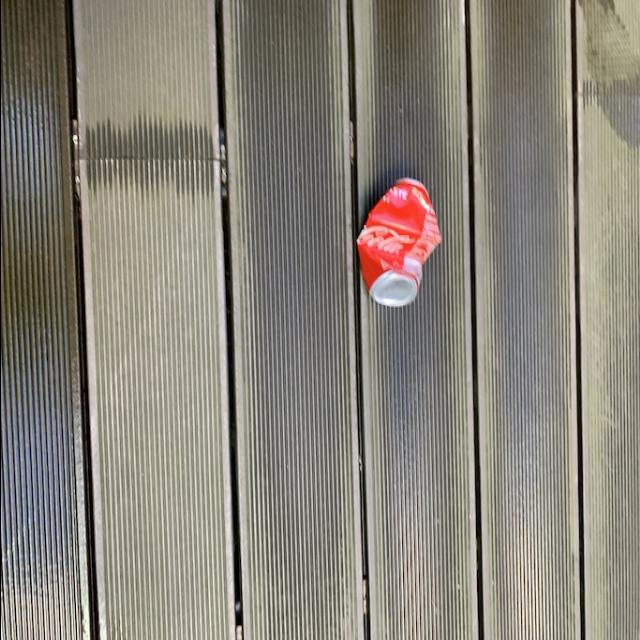Aluminum Can: (356, 169, 440, 311)
